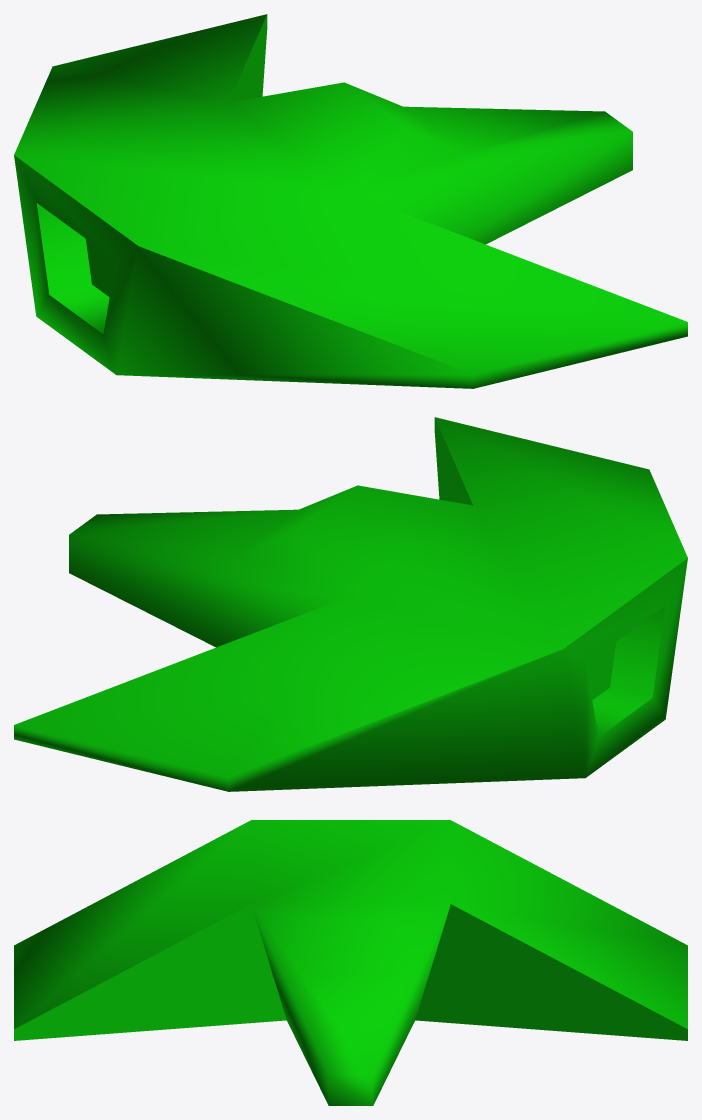
The model's file is EnemyShip.fbx.
The picture shows the model from 3 angles, top to bottom: view 1: azimuth 30°, elevation 25°; view 2: azimuth 150°, elevation 25°; view 3: azimuth 270°, elevation 25°; orthographic projection. The views are drawn at different scales.
Visible parts, largest first — view 1: Würfel; view 2: Würfel; view 3: Würfel.
Part boxes in pixels (bbox=[...]): Würfel: bbox=[14, 14, 687, 388]; Würfel: bbox=[14, 417, 687, 791]; Würfel: bbox=[14, 820, 687, 1105].
Bounding box in the file's own units: 782 × 231 × 1050.
